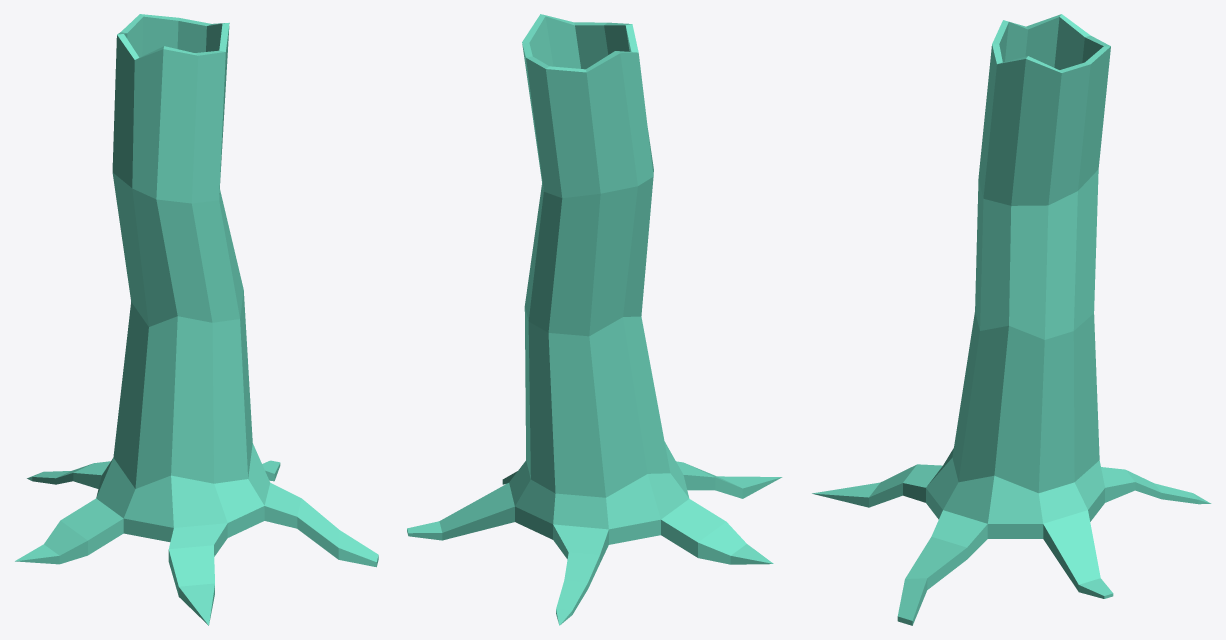
The model's file is Tronco seco.fbx.
3 views of the same model, side by side, from view 1: azimuth 30°, elevation 25°; view 2: azimuth 150°, elevation 25°; view 3: azimuth 270°, elevation 25° (orthographic). The views are drawn at different scales.
Visible parts, largest first — view 1: Tronco oco; view 2: Tronco oco; view 3: Tronco oco.
Boxes of the visible parts, left/top/right/bottom form: Tronco oco: left=15, top=14, right=378, bottom=625; Tronco oco: left=407, top=14, right=782, bottom=625; Tronco oco: left=812, top=14, right=1211, bottom=625.
Bounding box in the file's own units: 169 × 268 × 186.
